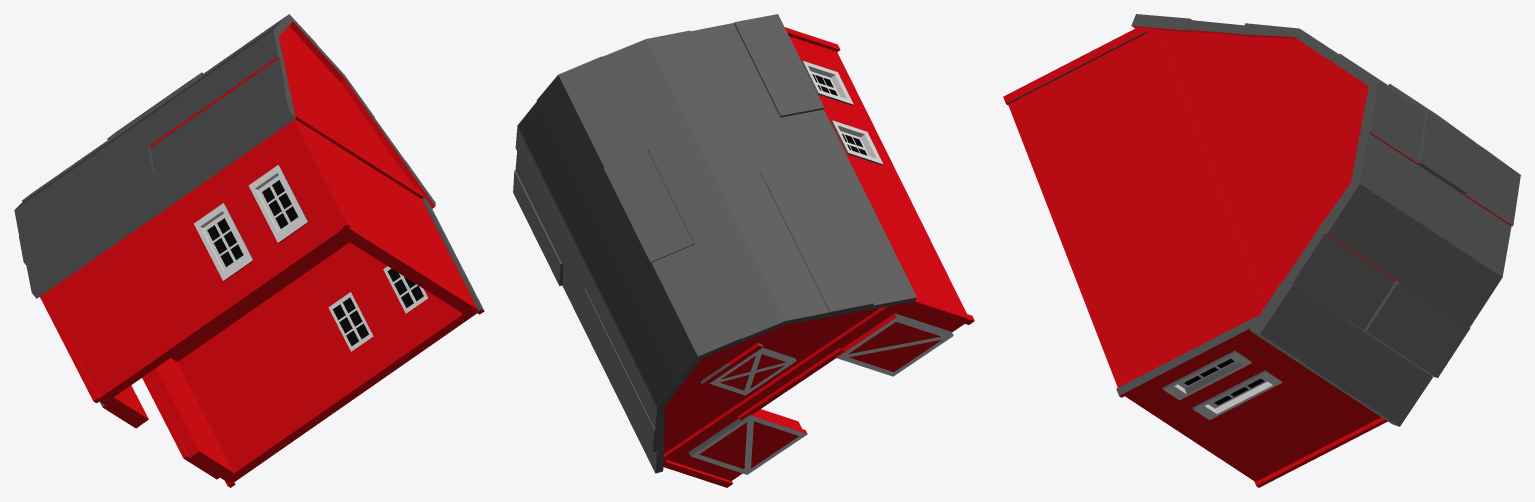
The model's file is farm.fbx.
3 views of the same model, side by side, from view 1: azimuth 30°, elevation 25°; view 2: azimuth 150°, elevation 25°; view 3: azimuth 270°, elevation 25° (orthographic). The views are drawn at different scales.
Visible parts, largest first — view 1: farm-house; view 2: farm-house; view 3: farm-house.
Boxes of the visible parts, bbox=[...] form: farm-house: bbox=[14, 14, 484, 487]; farm-house: bbox=[513, 14, 974, 487]; farm-house: bbox=[1003, 14, 1520, 487].
Bounding box in the file's own units: 141 × 146 × 139.
